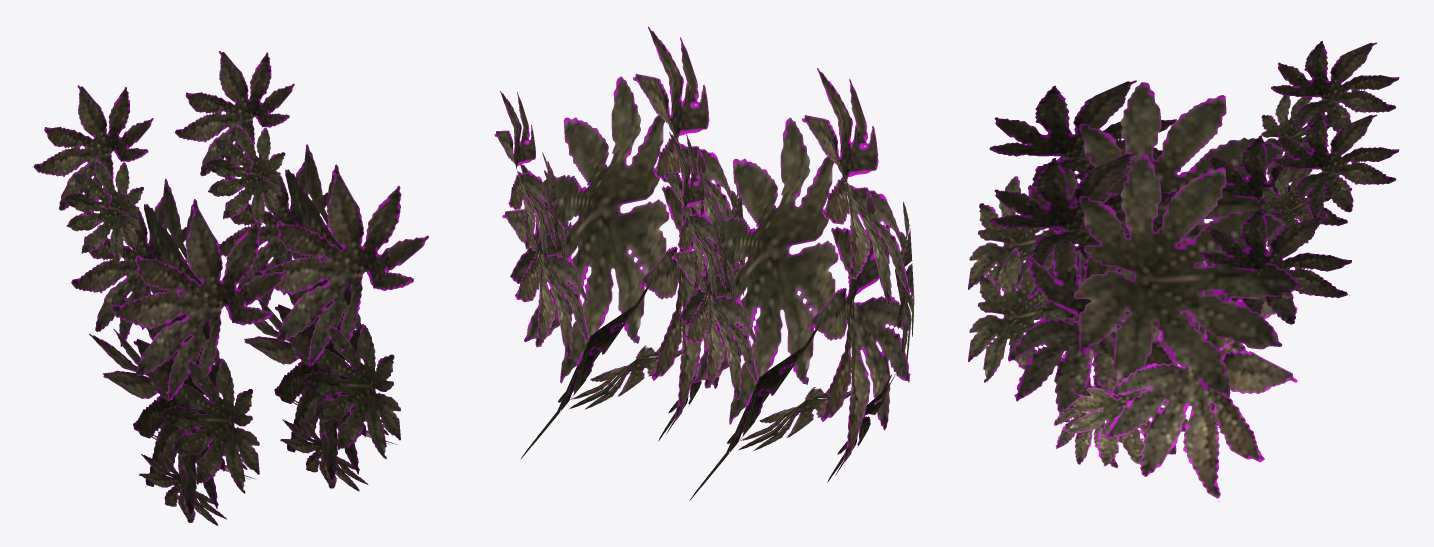
Rendered from tdr_tlv_wallplant_a21.obj.
3 views of the same model, side by side, from view 1: azimuth 30°, elevation 25°; view 2: azimuth 150°, elevation 25°; view 3: azimuth 270°, elevation 25° (orthographic). The views are drawn at different scales.
Parts seen in each view (by area): view 1: tdr_tlv_wallplant_a001, tdr_tlv_wallplant_a; view 2: tdr_tlv_wallplant_a001, tdr_tlv_wallplant_a; view 3: tdr_tlv_wallplant_a, tdr_tlv_wallplant_a001.
Part boxes in pixels (x1,y1,x2,y2): tdr_tlv_wallplant_a001: (32,85,287,525); tdr_tlv_wallplant_a: (173,51,428,491); tdr_tlv_wallplant_a001: (663,68,914,500); tdr_tlv_wallplant_a: (494,26,745,459); tdr_tlv_wallplant_a: (968,113,1399,501); tdr_tlv_wallplant_a001: (968,40,1399,429).
Size of the model in its own units: 1473 by 1966 by 1969.
